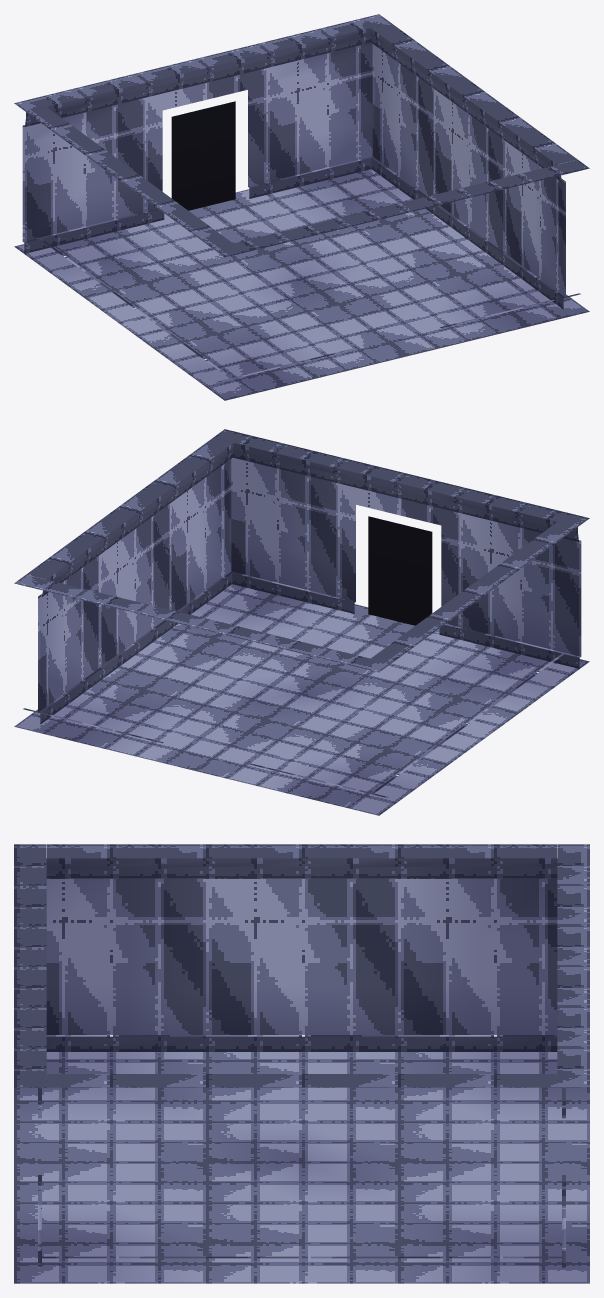
The model's file is cyroom.apartment.glb.
3 views of the same model, one above another, from view 1: azimuth 30°, elevation 25°; view 2: azimuth 150°, elevation 25°; view 3: azimuth 270°, elevation 25° (orthographic). The views are drawn at different scales.
Visible parts, largest first — view 1: kit_shell_walls, kit_shell_floor, kit_card_lights; view 2: kit_shell_walls, kit_shell_floor, kit_card_lights; view 3: kit_shell_walls, kit_shell_floor.
Part boxes in pixels (left/top/right/bottom): kit_shell_walls: left=14, top=14, right=589, bottom=383; kit_shell_floor: left=14, top=169, right=589, bottom=400; kit_card_lights: left=171, top=101, right=235, bottom=210; kit_shell_walls: left=14, top=429, right=589, bottom=798; kit_shell_floor: left=14, top=584, right=589, bottom=815; kit_card_lights: left=368, top=516, right=432, bottom=625; kit_shell_walls: left=14, top=844, right=589, bottom=1268; kit_shell_floor: left=14, top=1052, right=589, bottom=1283.
Bounding box in the file's own units: 12 × 4.5 × 12.
6 materials, 6 textured.
